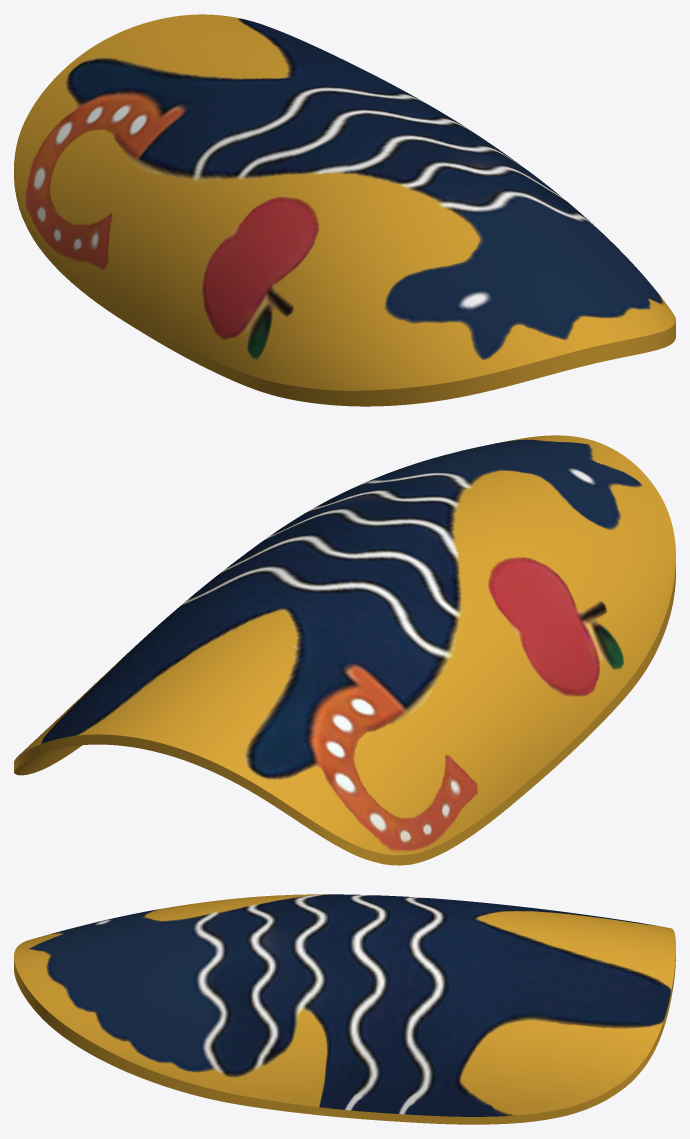
Rendered from MF_Xiao_ma_Damuzhi_ty02.obj.
3 views of the same model, one above another, from view 1: azimuth 30°, elevation 25°; view 2: azimuth 150°, elevation 25°; view 3: azimuth 270°, elevation 25° (orthographic). The views are drawn at different scales.
Visible parts, largest first — view 1: MF_Xiao_ma_Damuzhi_ty02; view 2: MF_Xiao_ma_Damuzhi_ty02; view 3: MF_Xiao_ma_Damuzhi_ty02.
Boxes of the visible parts, x1,y1,x2,y2 form: MF_Xiao_ma_Damuzhi_ty02: (14, 14, 675, 406); MF_Xiao_ma_Damuzhi_ty02: (14, 435, 675, 865); MF_Xiao_ma_Damuzhi_ty02: (14, 894, 675, 1124).
Bounding box in the file's own units: 12 × 5.5 × 23.24.
1 material, 1 textured.
